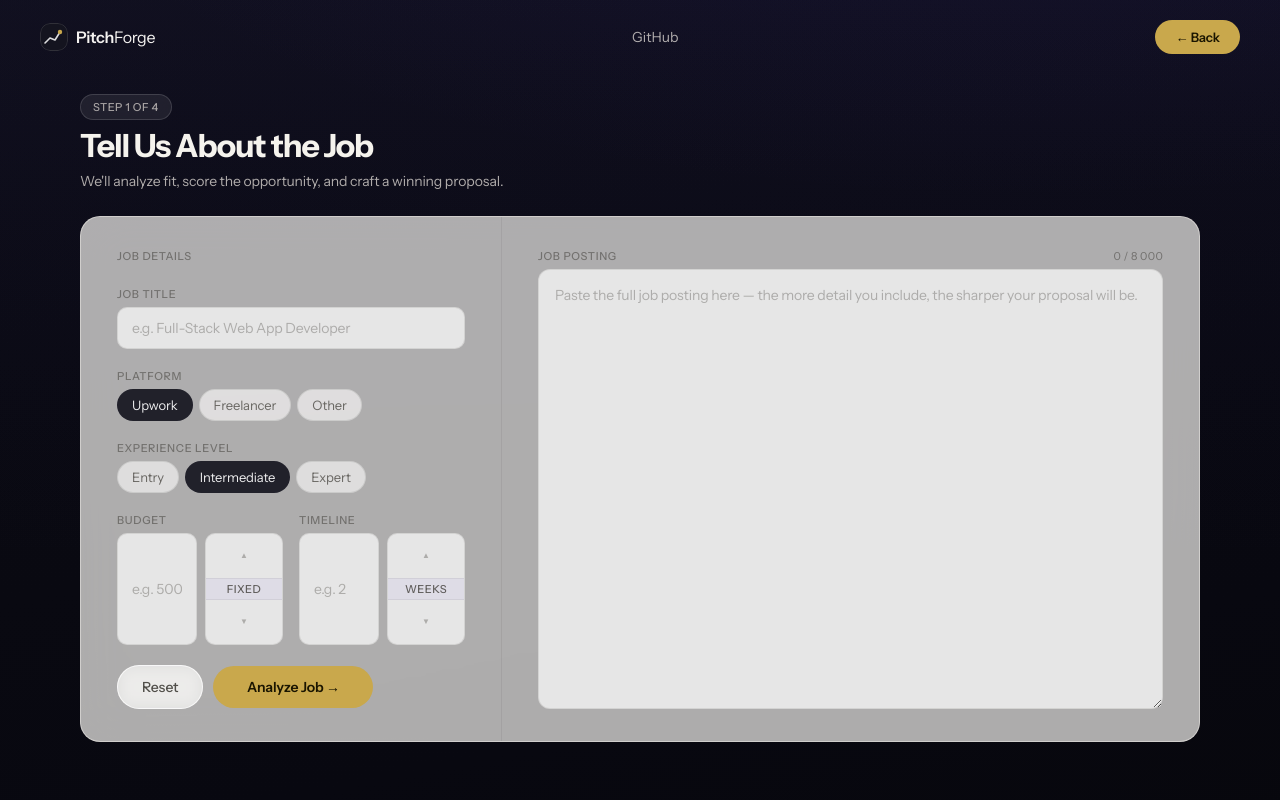
Test case: shows title required error when title is empty on submit
The width and height of the screenshot is (1280, 800).
Click the button "Analyze Job →" at {"x": 293, "y": 687}, box [213,666,373,708]
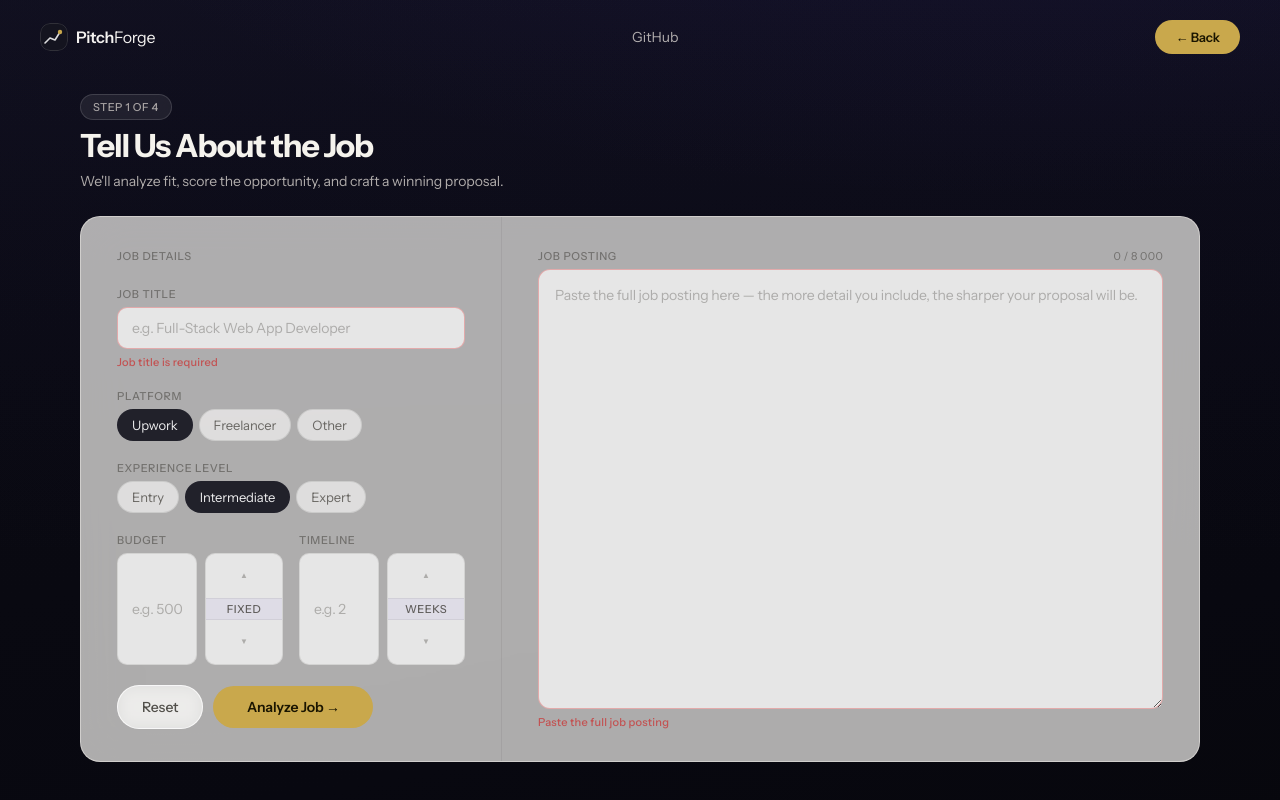
expect the text "Job title is required" is shown: met, box [117,355,218,369]
